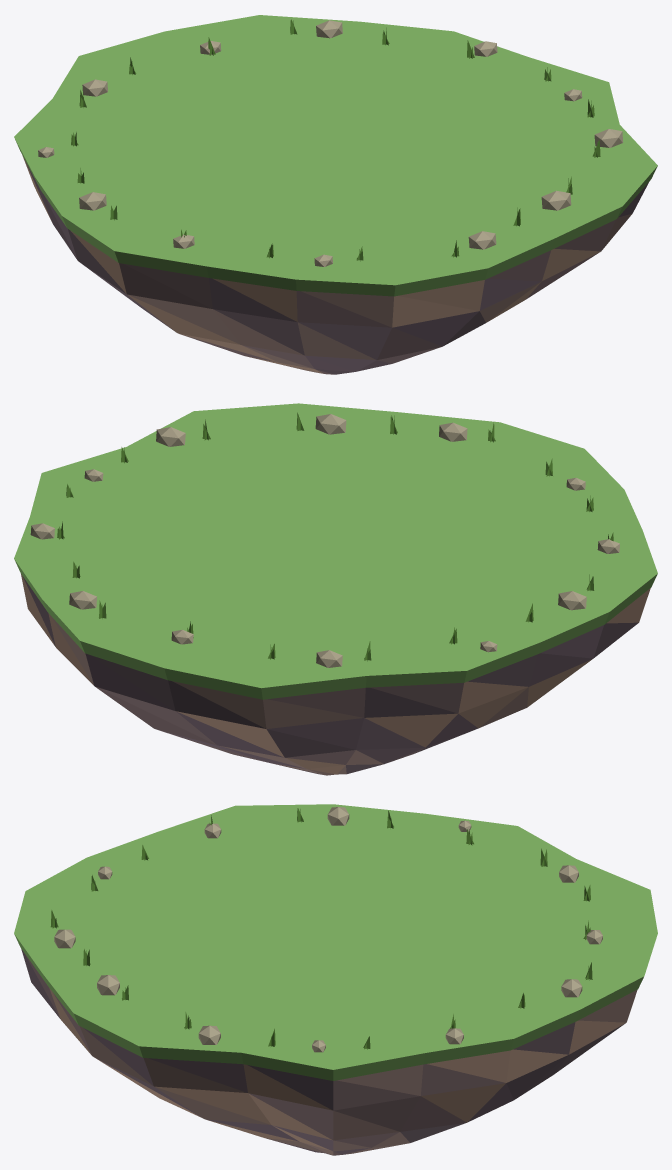
File: island_base_01.glb
3 renders of one model, top to bottom at view 1: azimuth 30°, elevation 25°; view 2: azimuth 150°, elevation 25°; view 3: azimuth 270°, elevation 25°, orthographic. The views are drawn at different scales.
Parts seen in each view (by area): view 1: island_base_01; view 2: island_base_01; view 3: island_base_01.
Boxes of the visible parts, box(x1,y1,x2,y2) form: island_base_01: box(14, 15, 657, 374); island_base_01: box(14, 403, 657, 775); island_base_01: box(14, 804, 657, 1155).
Size of the model in its own units: 9.07 by 3.61 by 9.29.
